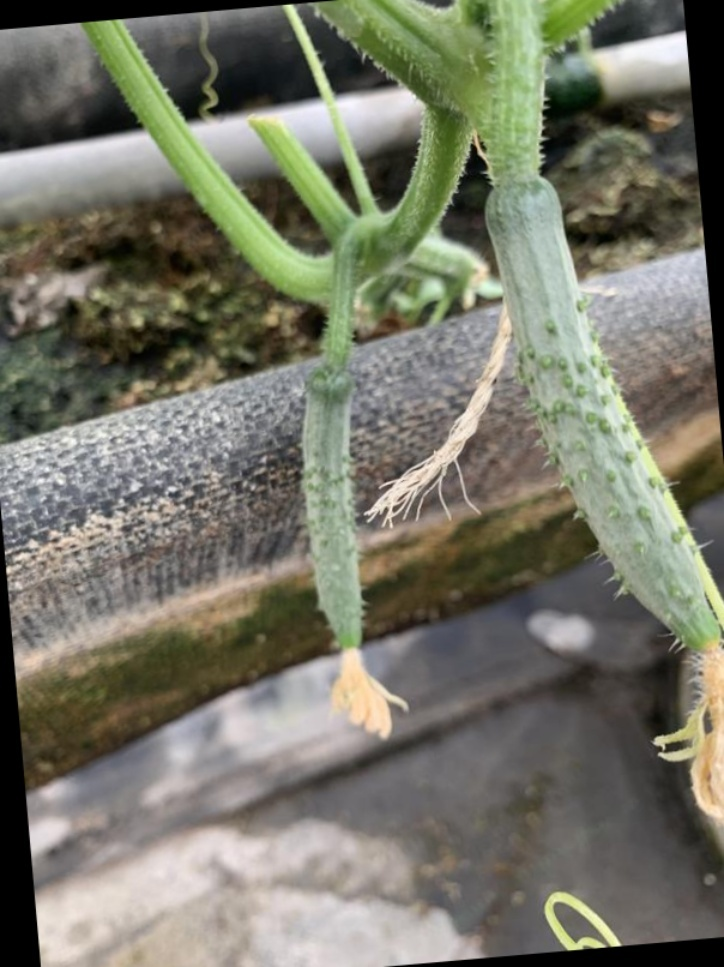bear: (291, 356, 400, 701)
growth: (469, 168, 724, 734)
